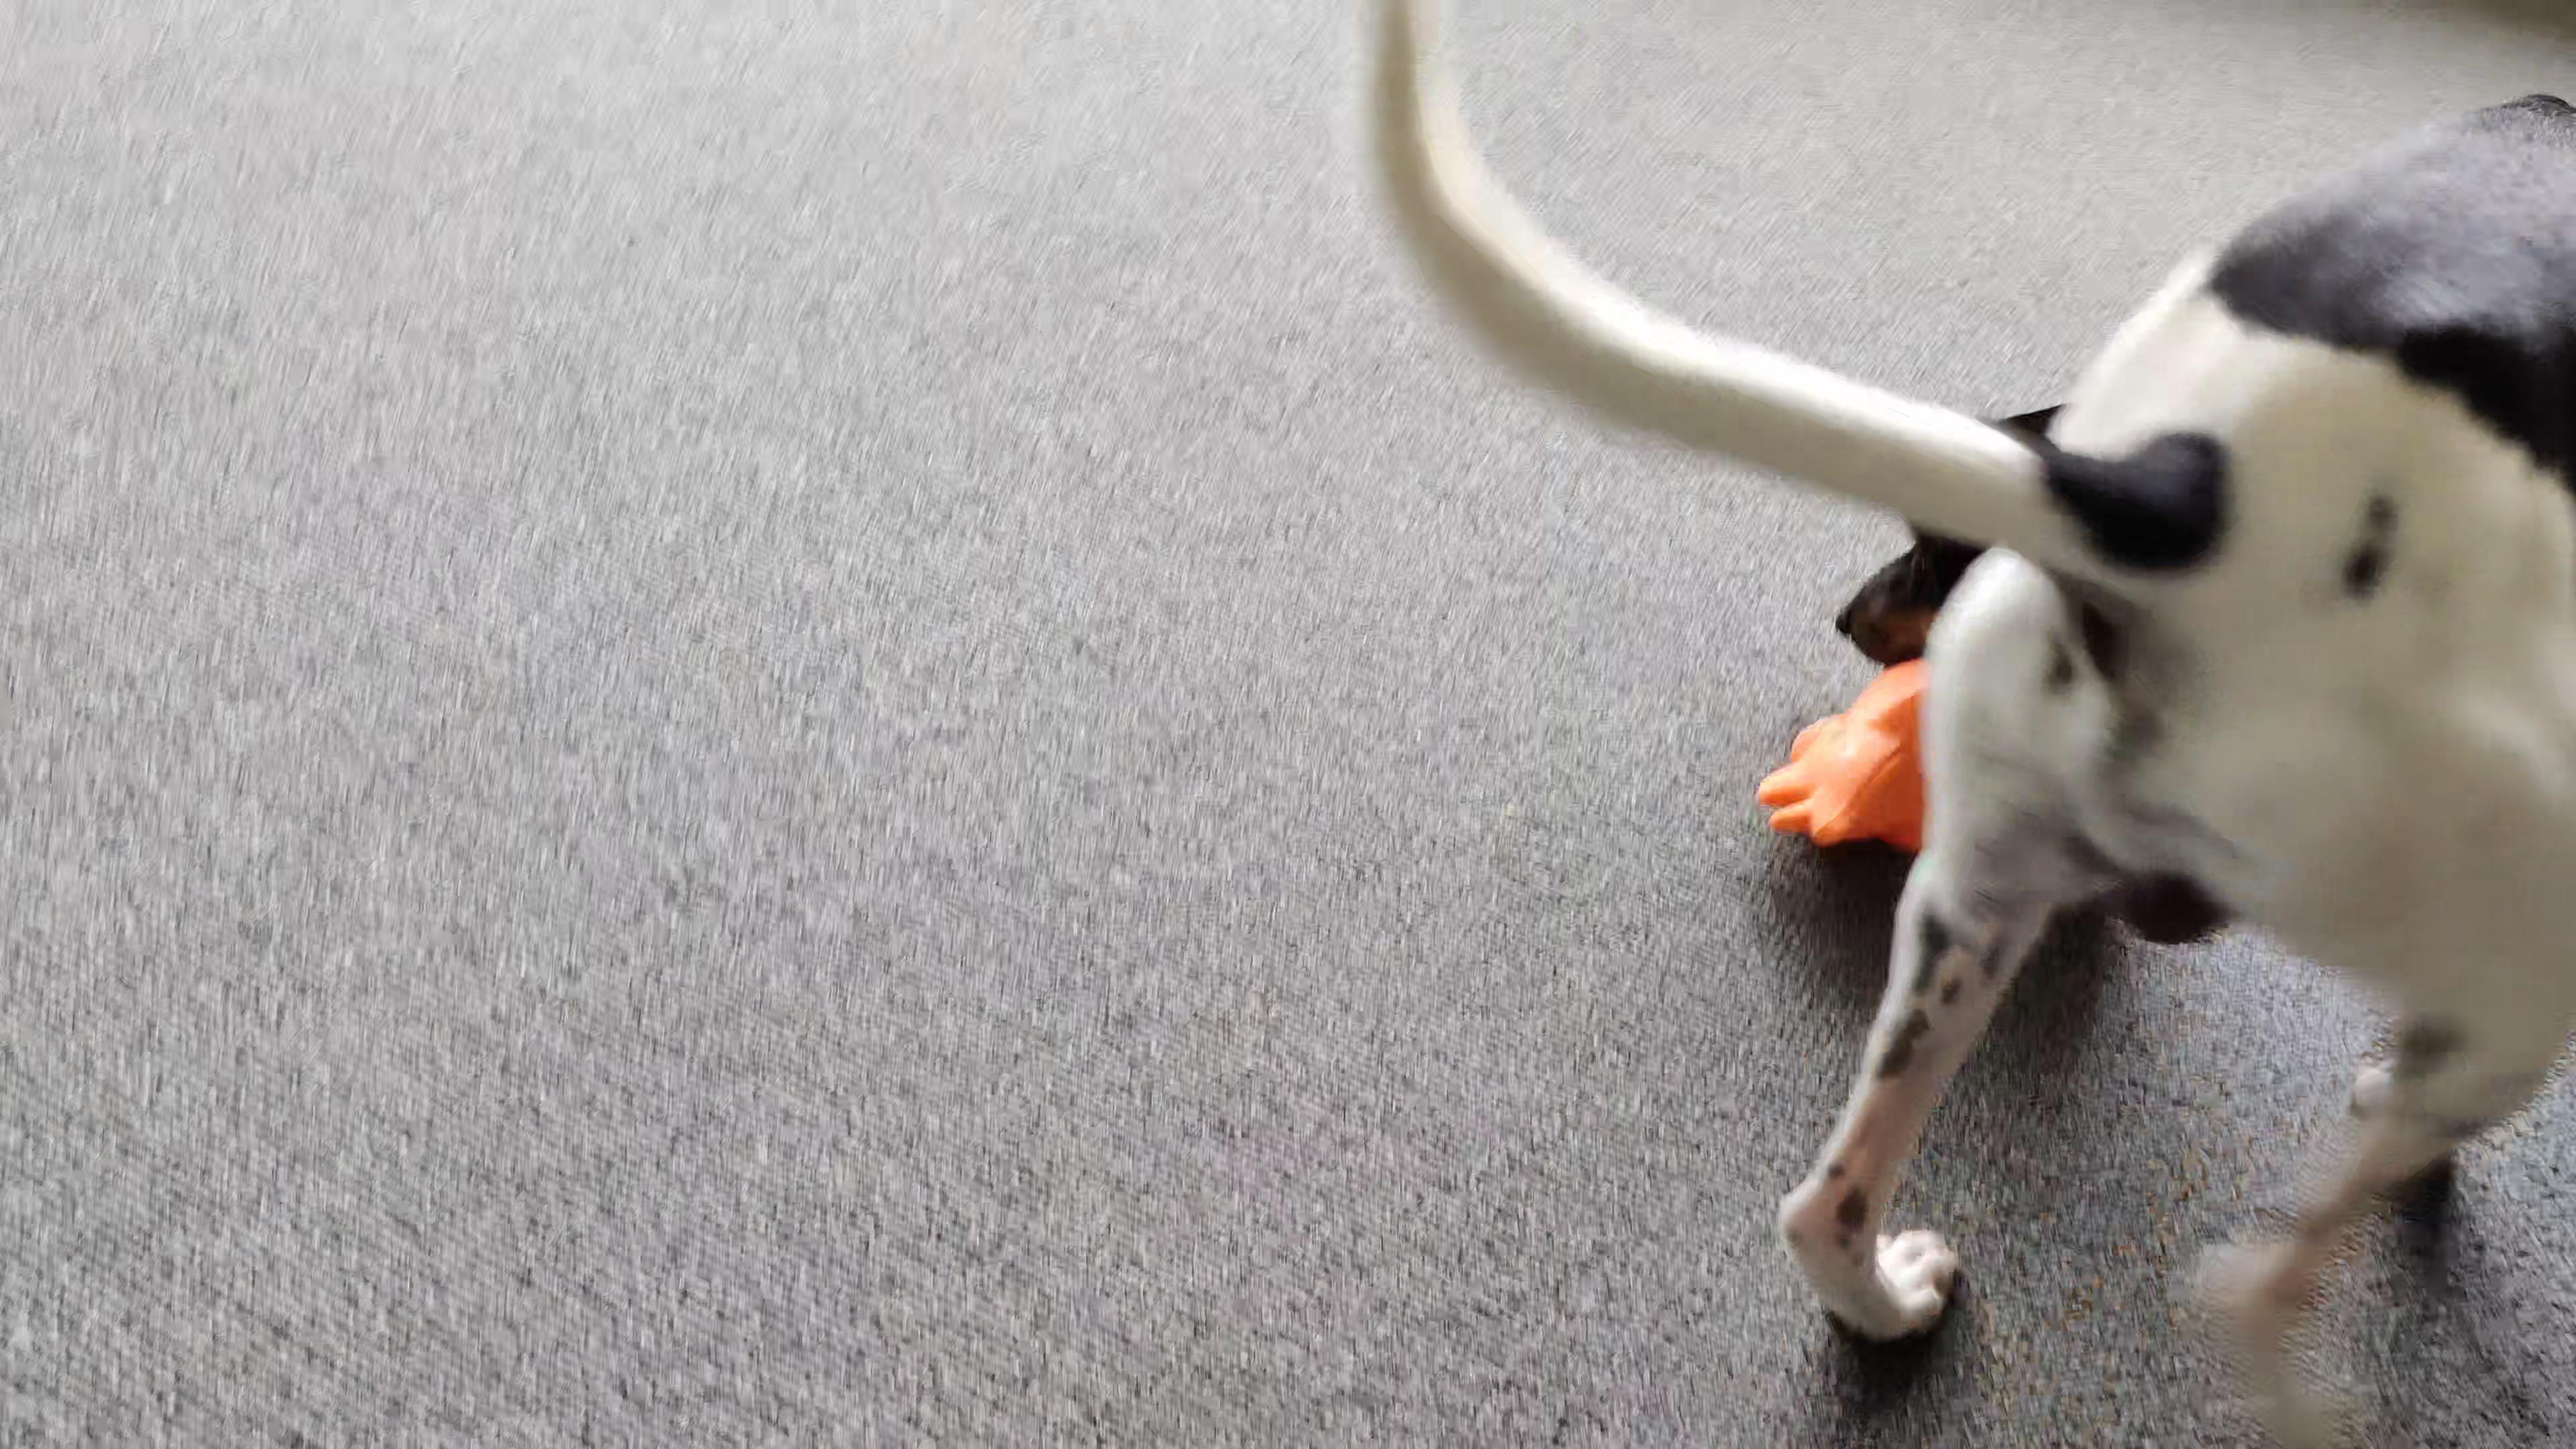Dog: (1353, 0, 2576, 1449)
